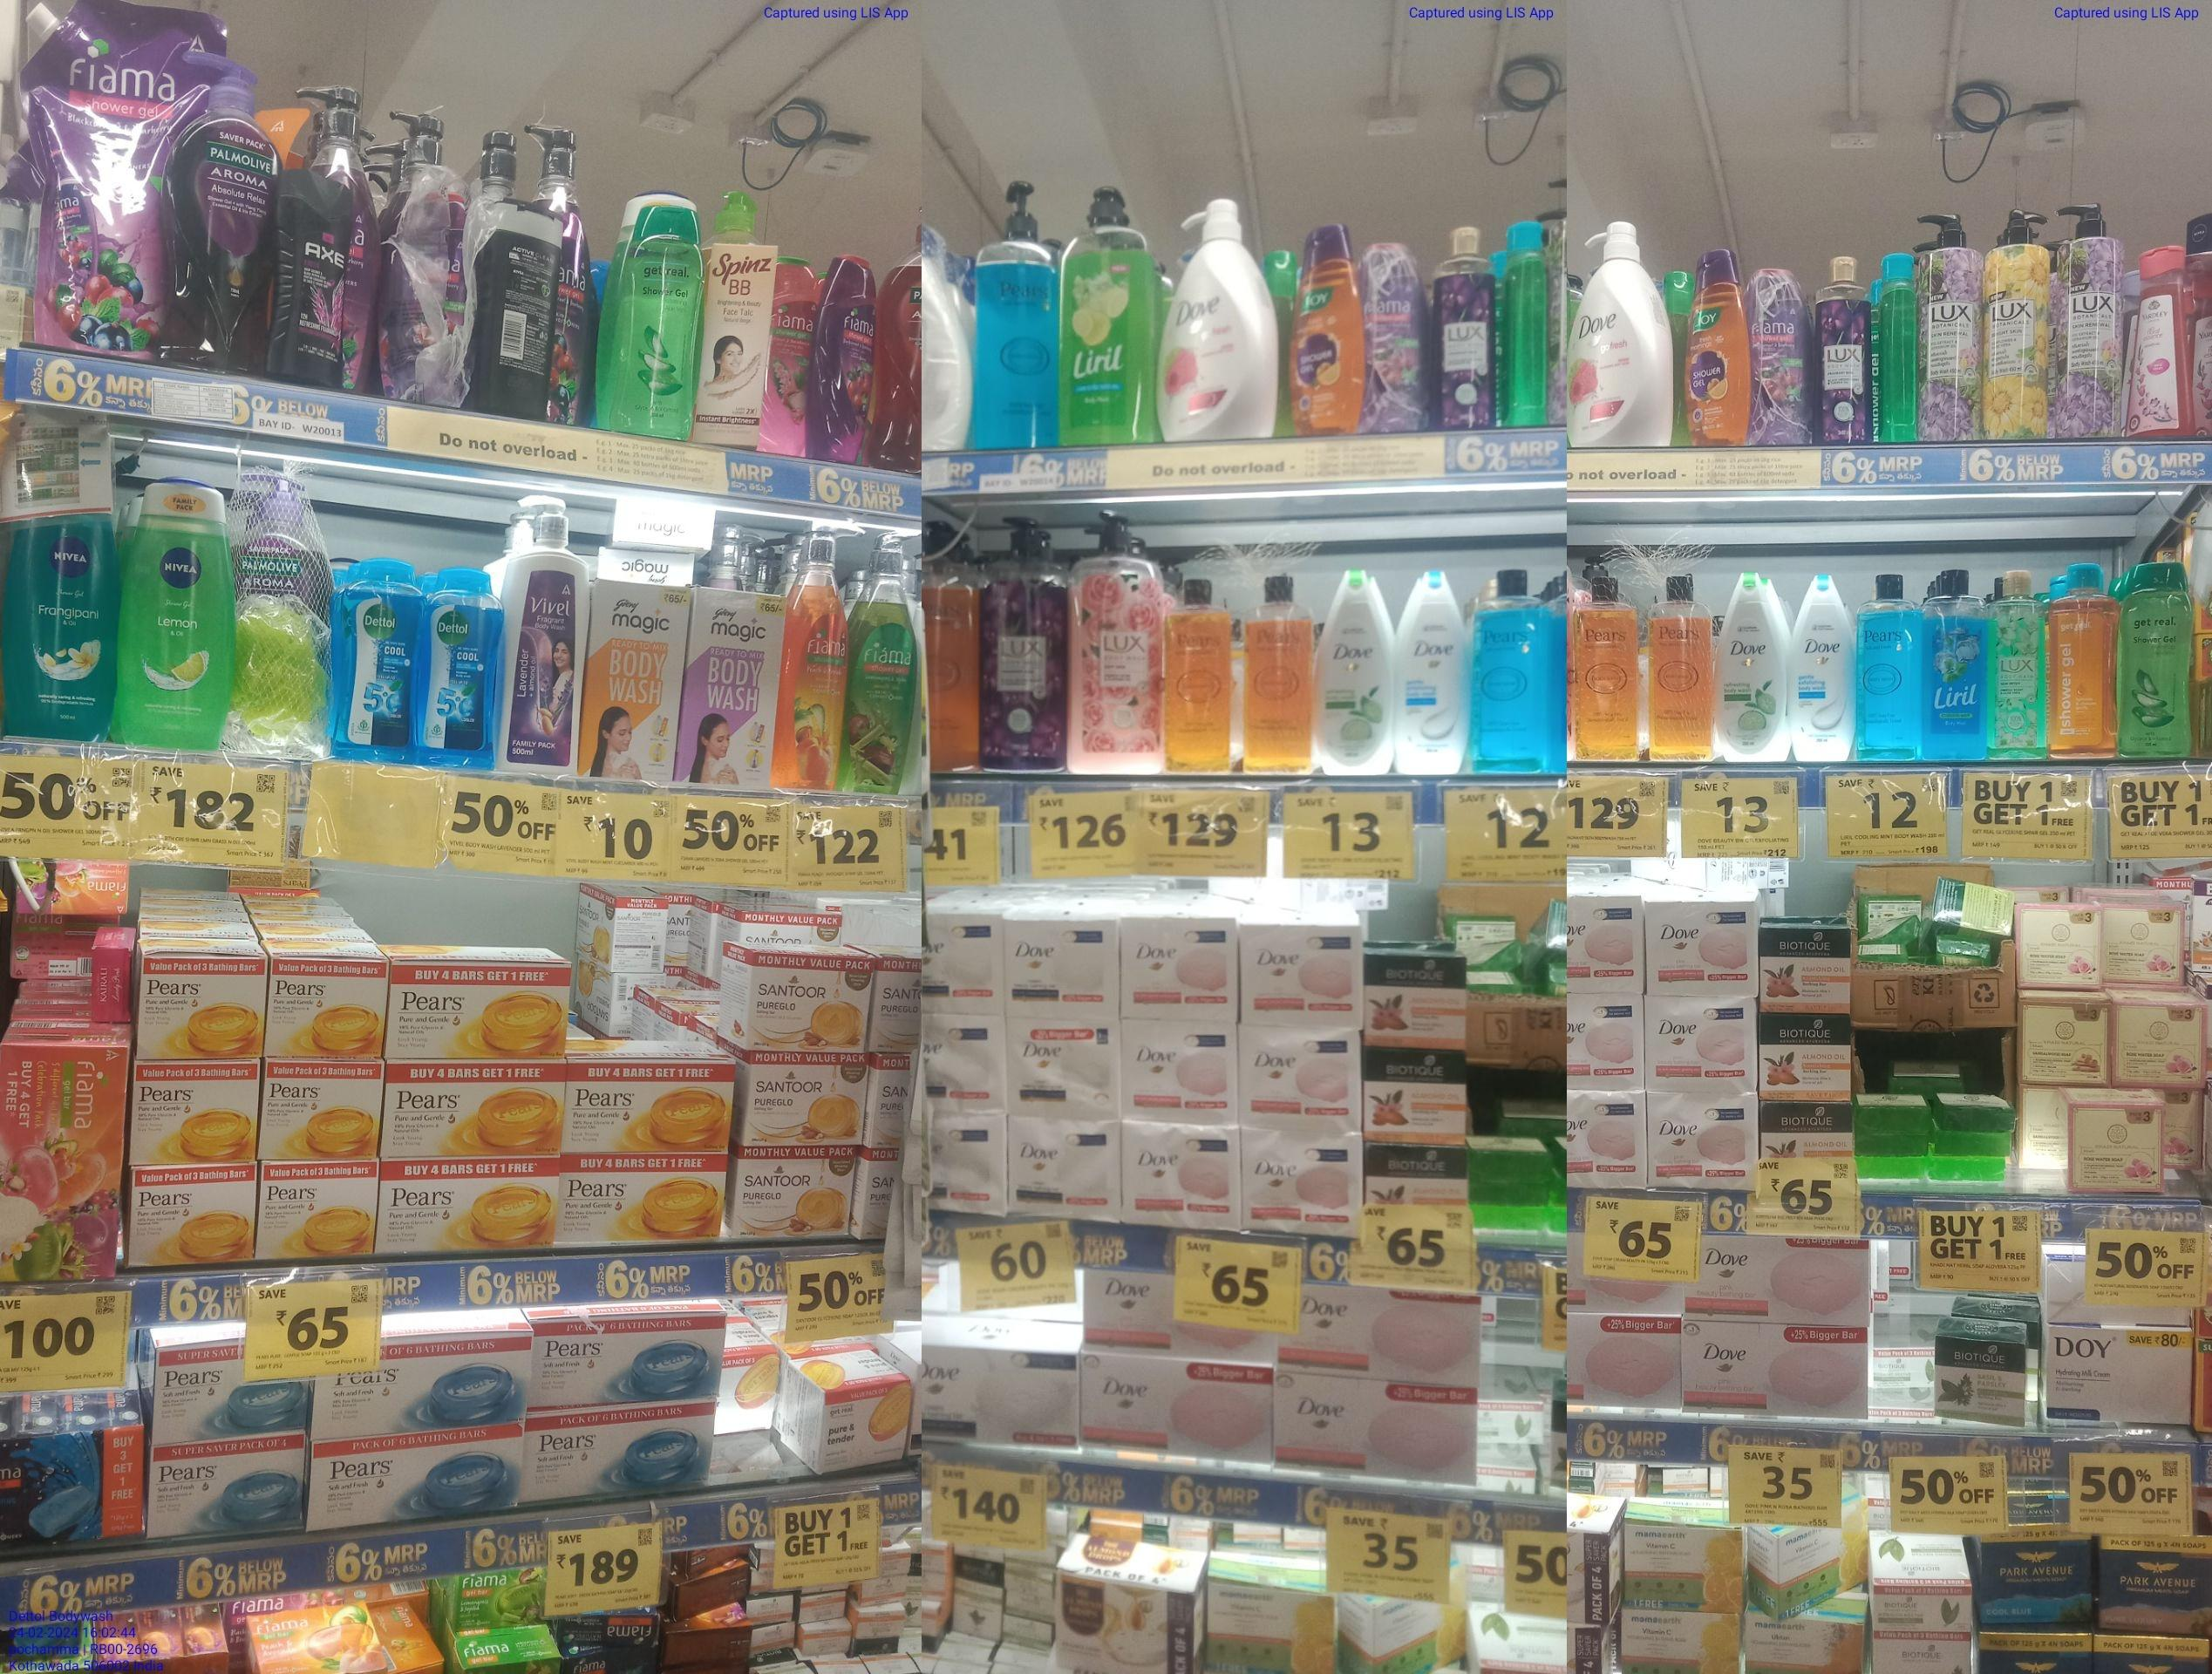Dettol_Bodywash_Cool: (332, 557, 418, 761), (422, 563, 501, 765)
Dove_Gentle_Exfoliating_Body_Wash_250ML: (1396, 564, 1466, 774), (1790, 575, 1852, 763)
Dove_Refreshing_Body_Wash_250ML: (1317, 570, 1391, 774), (1711, 573, 1785, 761)
Joy_Shower_Gel_Mandarin_and_Lemongrass_250ML: (1284, 232, 1364, 427), (1683, 248, 1750, 450)
Liril_Cooling_Mint_Body_Wash_250ML: (1920, 570, 1983, 761)
Lux_Black_Orchid_Scent_and_Juniper_Oil_Body_Wash_245ML: (1431, 216, 1496, 426), (1813, 250, 1876, 445)
Lux_Body_Wash_Skin_Detox_Freesia_Scent_and_Alove_Vera_245ML: (1987, 573, 2050, 760)
Nivea_Shower_Gel_Frangipani_and_Oil_250ML: (4, 528, 114, 742)
Nivea_Shower_Gel_Lemon_and_Oil_250ML: (127, 478, 234, 747)
Pears_Pure_Glycerin_and_Mint_Extracts_Body_Wash_250ML: (1859, 573, 1913, 763)
